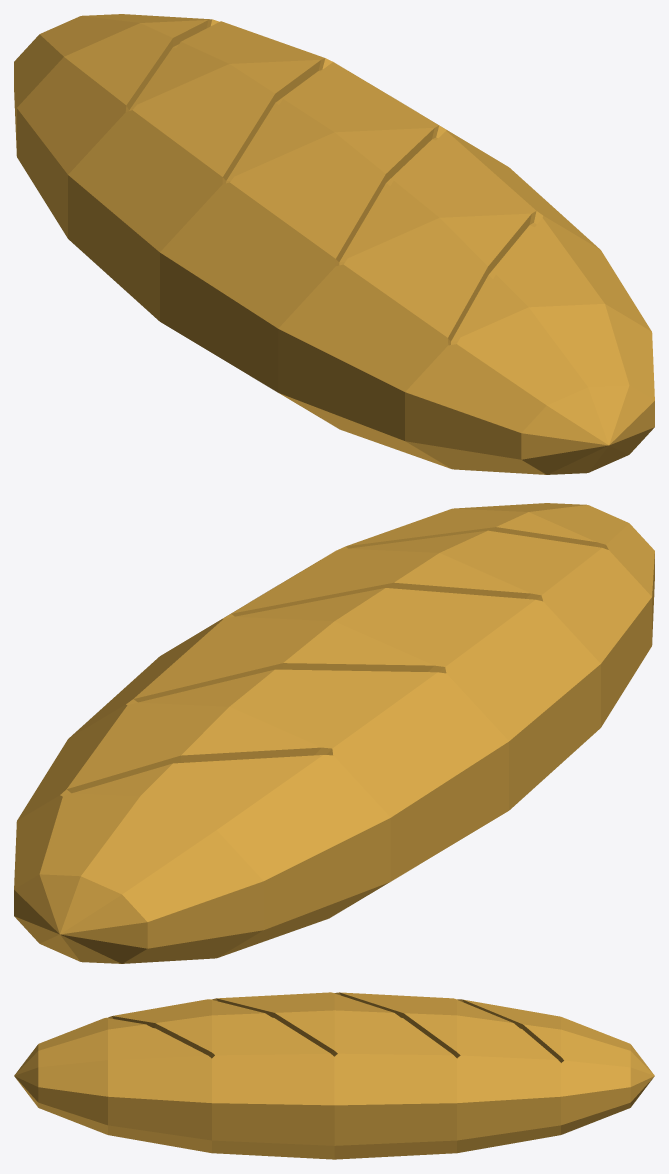
File: Baguete.fbx
The picture shows the model from 3 angles, top to bottom: view 1: azimuth 30°, elevation 25°; view 2: azimuth 150°, elevation 25°; view 3: azimuth 270°, elevation 25°; orthographic projection. The views are drawn at different scales.
Parts seen in each view (by area): view 1: Baguete; view 2: Baguete; view 3: Baguete.
Part boxes in pixels (x1=…): Baguete: x1=14, y1=14, x2=654, y2=474; Baguete: x1=14, y1=503, x2=654, y2=963; Baguete: x1=14, y1=992, x2=654, y2=1159.
Size of the model in its own units: 19.08 by 11.71 by 51.96.
Materials: 1 (1 with a texture image).
